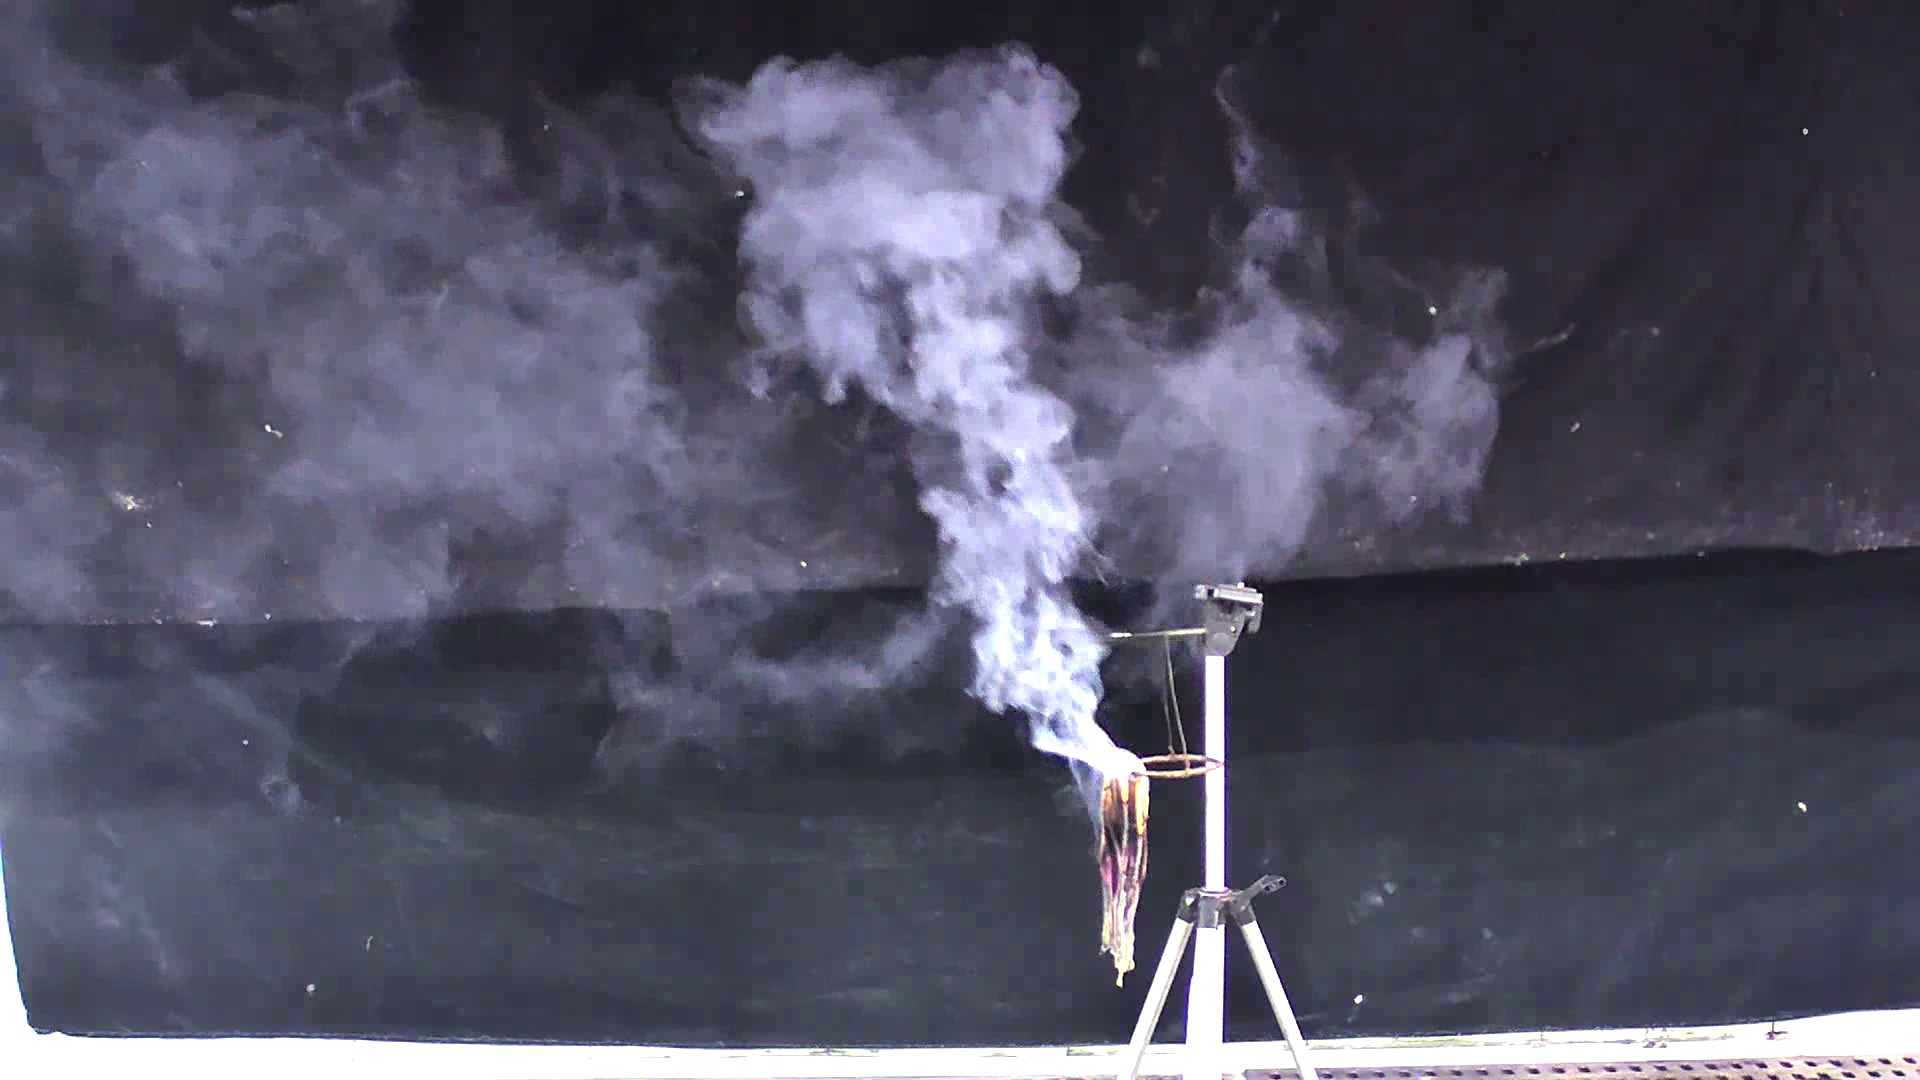smoke: (556, 18, 1523, 822)
